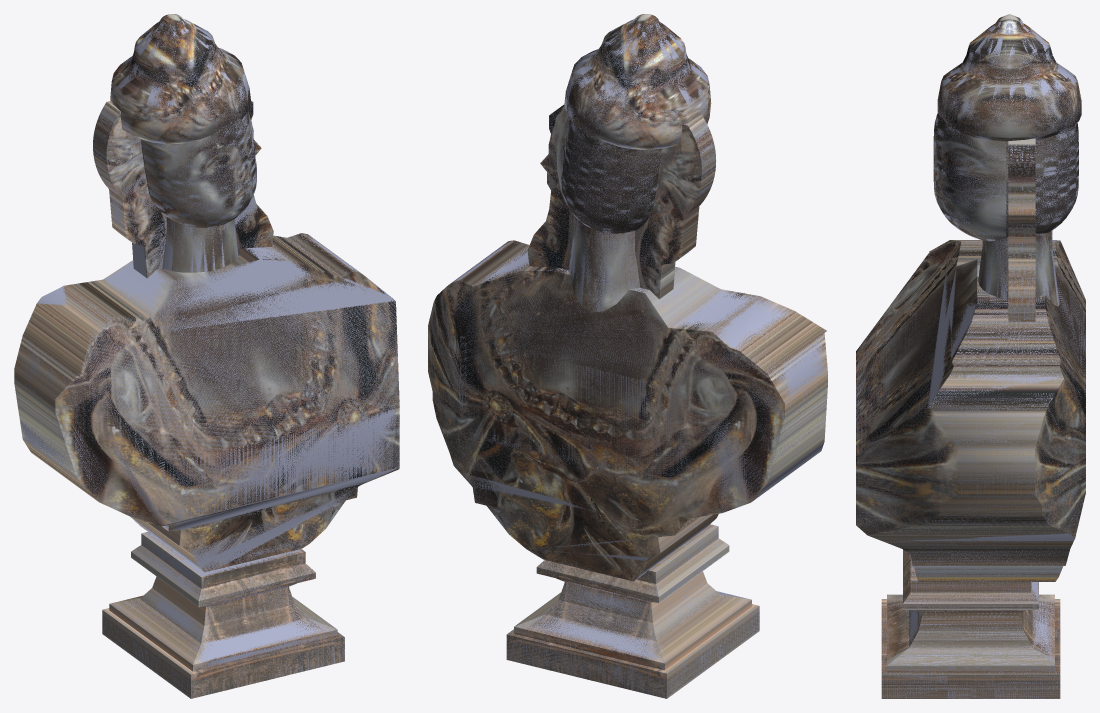
Rendered from prop_buste_aurore.fbx.
3 views of the same model, side by side, from view 1: azimuth 30°, elevation 25°; view 2: azimuth 150°, elevation 25°; view 3: azimuth 270°, elevation 25° (orthographic). The views are drawn at different scales.
Parts seen in each view (by area): view 1: Group7, Group3, Group2, Group5, Group6, Group4; view 2: Group7, Group3, Group2, Group6, Group5, Group4; view 3: Group7, Group3, Group2, Group5, Group6, Group4.
Boxes of the visible parts, bbox=[...] form: Group7: bbox=[14, 233, 399, 572]; Group3: bbox=[102, 531, 344, 698]; Group2: bbox=[110, 14, 250, 144]; Group5: bbox=[140, 112, 256, 227]; Group6: bbox=[93, 101, 273, 278]; Group4: bbox=[162, 217, 239, 272]; Group7: bbox=[428, 240, 827, 581]; Group3: bbox=[506, 524, 759, 698]; Group2: bbox=[564, 14, 711, 149]; Group6: bbox=[527, 105, 716, 299]; Group5: bbox=[561, 119, 662, 233]; Group4: bbox=[568, 215, 640, 312]; Group7: bbox=[856, 240, 1085, 581]; Group3: bbox=[881, 549, 1060, 698]; Group2: bbox=[937, 14, 1081, 142]; Group5: bbox=[933, 112, 1078, 241]; Group6: bbox=[1008, 138, 1035, 321]; Group4: bbox=[978, 230, 1059, 306].
Bounding box in the file's own units: 0.3771 × 0.6608 × 0.218.
